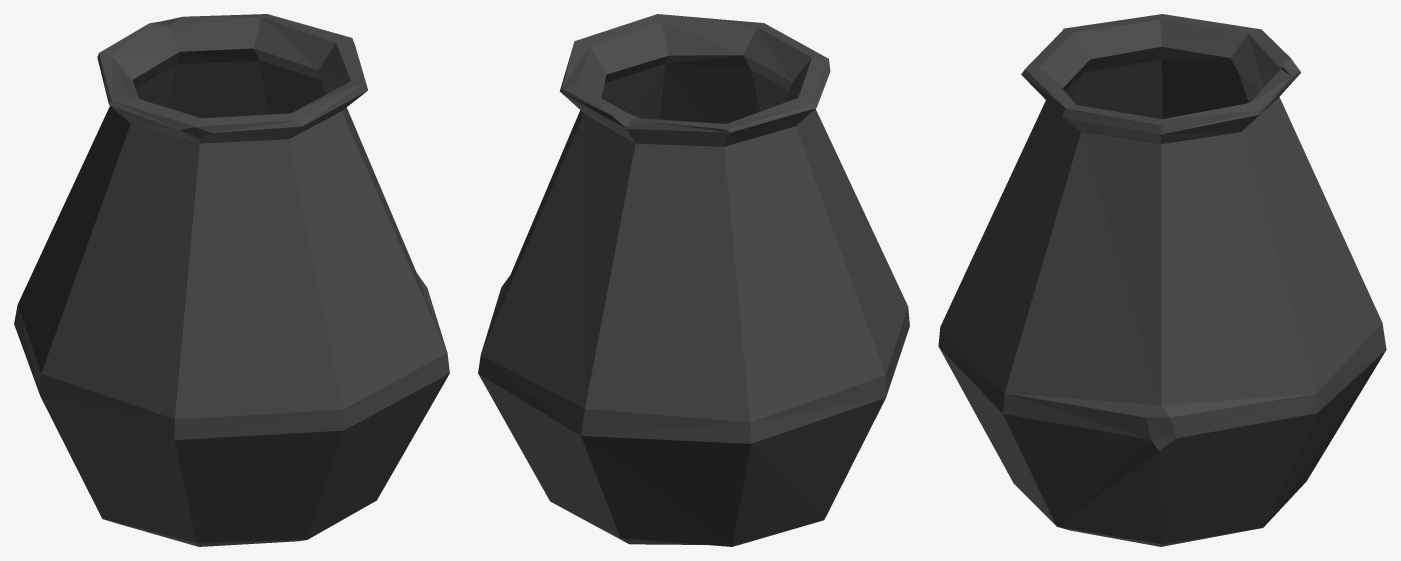
Rendered from AWS_Cauldron_Simple_006.fbx.
The picture shows the model from 3 angles, left to right: view 1: azimuth 30°, elevation 25°; view 2: azimuth 150°, elevation 25°; view 3: azimuth 270°, elevation 25°; orthographic projection.
Visible parts, largest first — view 1: AWS_Cauldron_Simple_006; view 2: AWS_Cauldron_Simple_006; view 3: AWS_Cauldron_Simple_006.
Boxes of the visible parts, x1,y1,x2,y2 form: AWS_Cauldron_Simple_006: [14, 14, 449, 546]; AWS_Cauldron_Simple_006: [478, 14, 909, 546]; AWS_Cauldron_Simple_006: [938, 14, 1386, 546].
Size of the model in its own units: 41.75 by 44.82 by 42.56.
